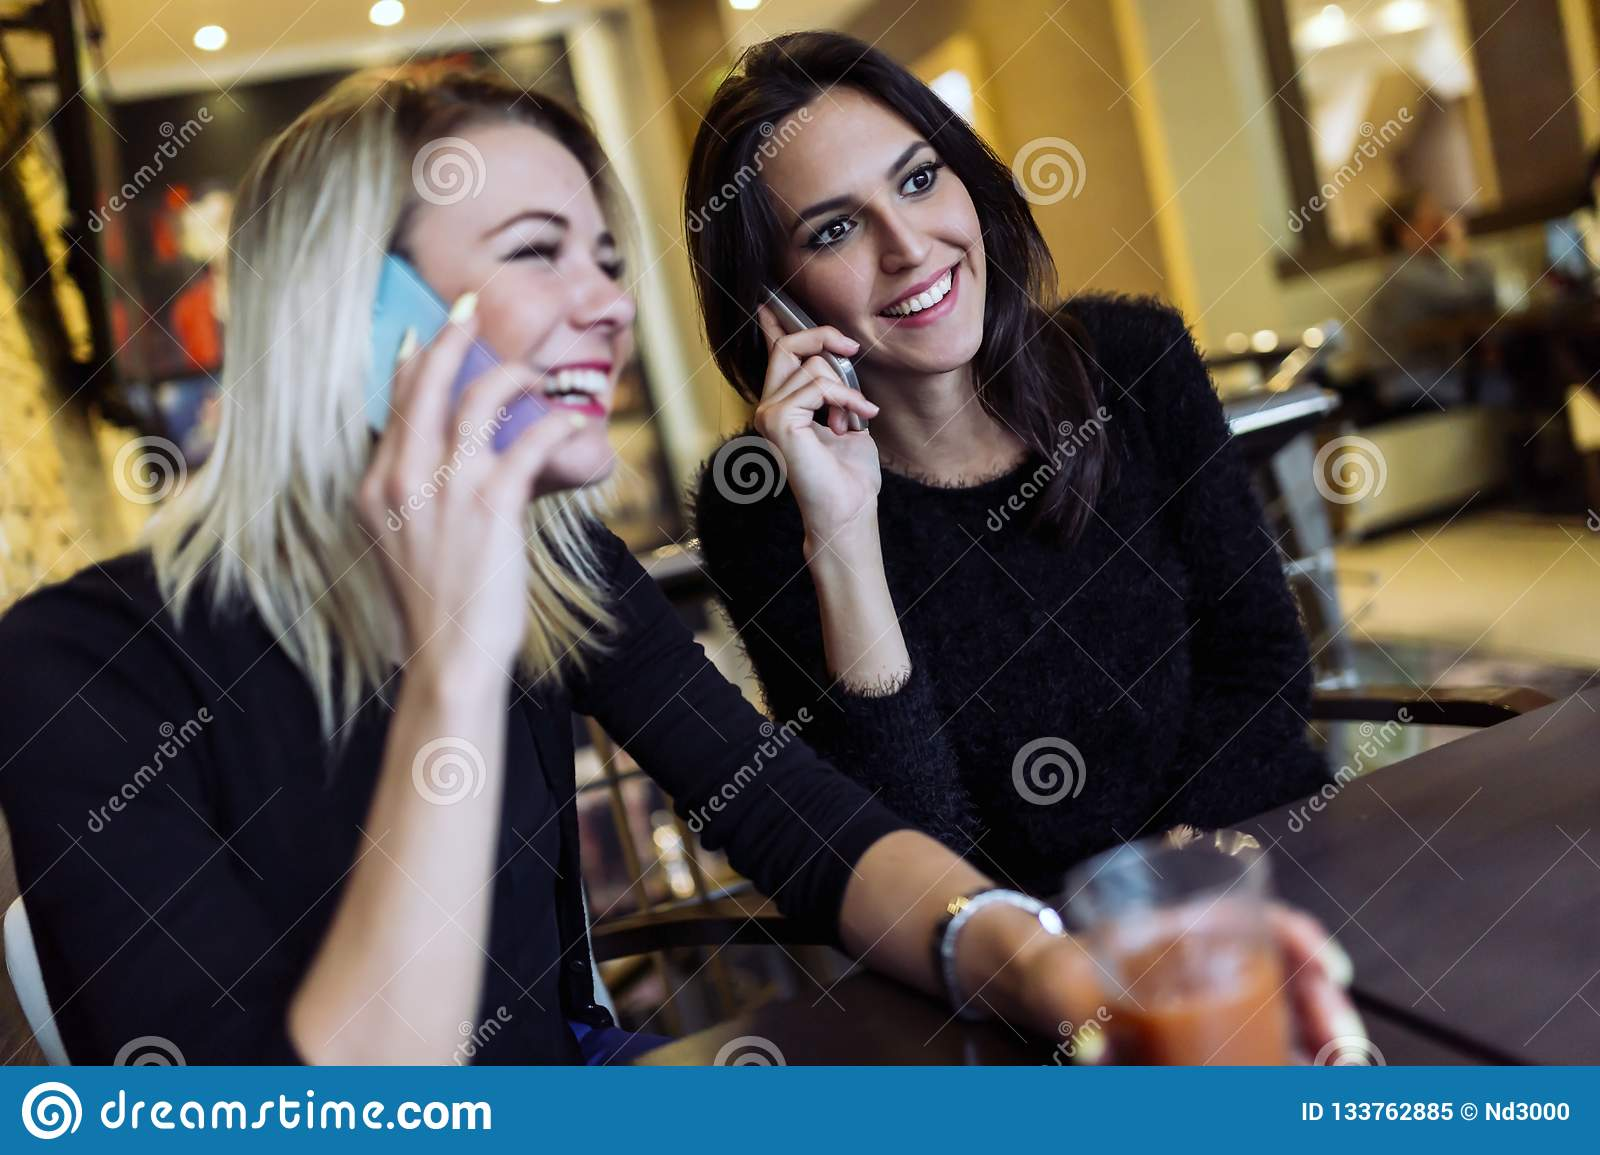phone: (359, 251, 569, 528), (760, 283, 871, 438)
talk: (352, 196, 645, 666), (757, 129, 998, 525)
